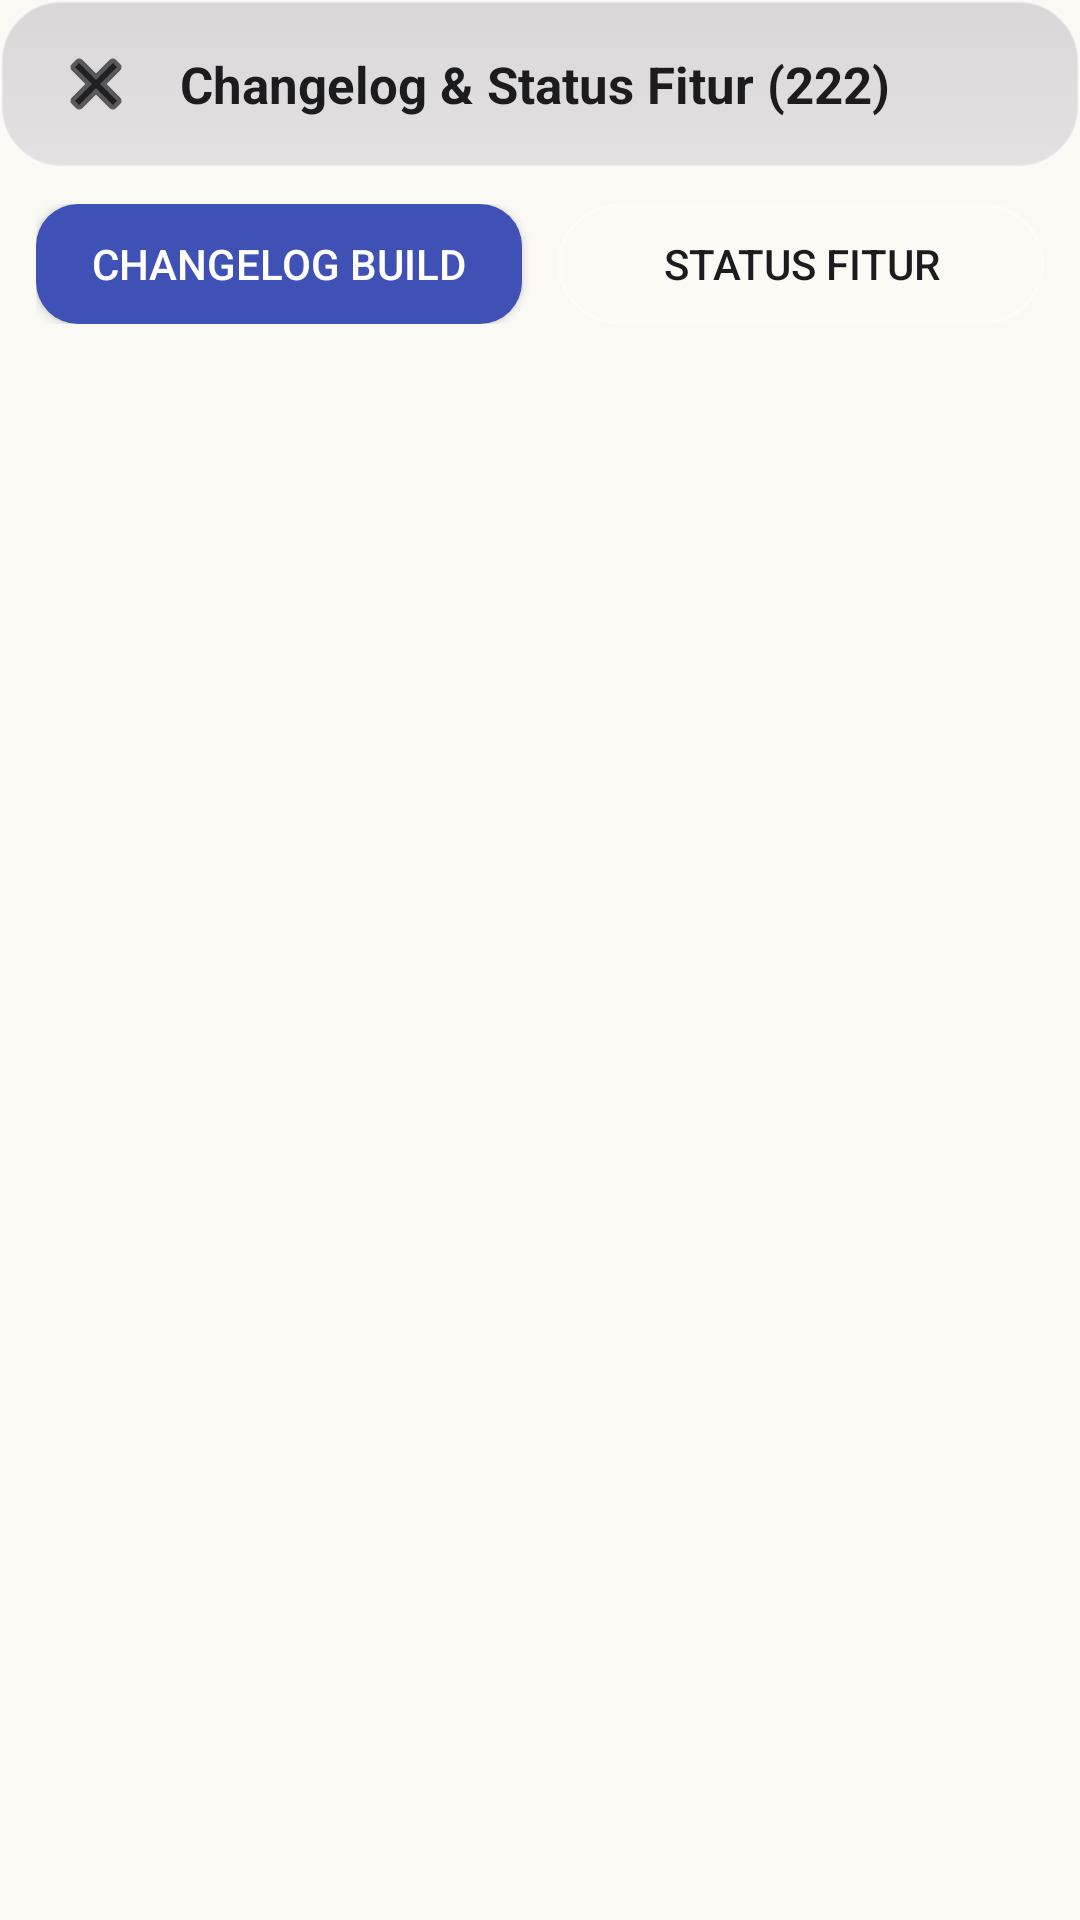

Icon bounding boxes for this 1080×1920 phone screenshot, format (left=x1, top=y1, right=x2, bottom=y2):
close: (left=70, top=58, right=122, bottom=110)
